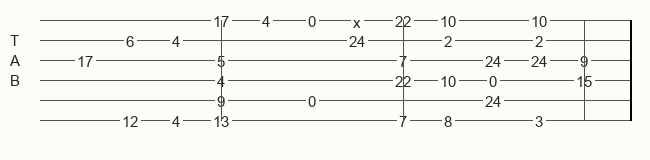0: (308, 93, 320, 108), (308, 13, 320, 28), (489, 73, 501, 88)
10: (440, 13, 460, 28), (440, 73, 460, 88), (531, 13, 551, 28)
12: (122, 113, 142, 128)
13: (213, 113, 233, 128)
15: (576, 73, 596, 88)
17: (77, 53, 97, 68), (213, 13, 233, 28)
2: (444, 33, 456, 48), (535, 33, 547, 48)
22: (395, 73, 415, 88), (395, 13, 415, 28)
24: (349, 33, 369, 48), (485, 53, 505, 68), (485, 93, 505, 108), (531, 53, 551, 68)
3: (535, 113, 547, 128)
4: (172, 33, 184, 48), (172, 113, 184, 128), (217, 73, 229, 88), (262, 13, 274, 28)
5: (217, 53, 229, 68)
6: (126, 33, 138, 48)
7: (399, 113, 411, 128), (399, 53, 411, 68)
8: (444, 113, 456, 128)
9: (217, 93, 229, 108), (580, 53, 592, 68)
x: (353, 14, 365, 26)
